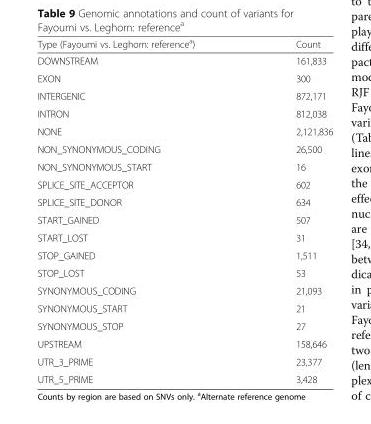table: (36, 36, 332, 384)
table column: (36, 36, 244, 384), (244, 36, 332, 384)
table column header: (36, 36, 332, 52)
table row: (36, 86, 332, 104), (36, 104, 332, 122), (36, 122, 332, 140), (36, 157, 332, 175), (36, 175, 332, 193), (36, 210, 332, 228), (36, 228, 332, 246), (36, 263, 332, 281), (36, 281, 332, 299), (36, 299, 332, 317), (36, 334, 332, 352), (36, 352, 332, 370), (36, 52, 332, 69), (36, 69, 332, 86), (36, 140, 332, 157), (36, 193, 332, 210), (36, 246, 332, 263), (36, 317, 332, 334), (36, 36, 332, 52), (36, 370, 332, 384)
